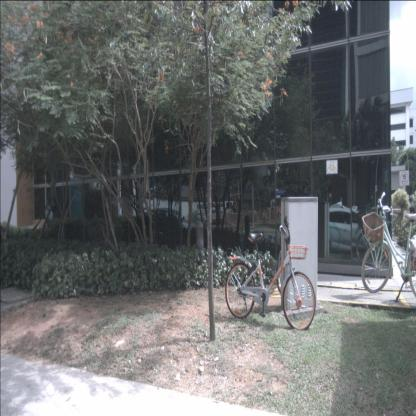vehicle-bicycle: (225, 213, 315, 331), (360, 191, 416, 305)
vehicle-car: (305, 206, 385, 256), (143, 208, 198, 252)
vehicle-truck: (196, 200, 234, 225)
